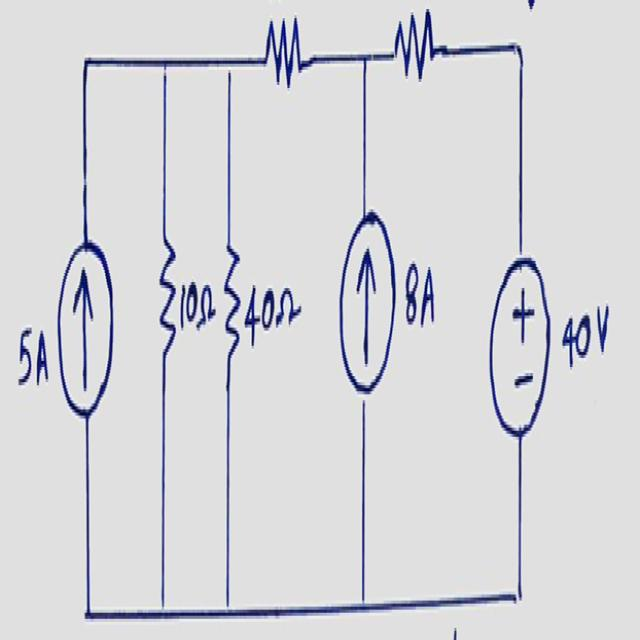current_source: (334, 205, 398, 402), (55, 231, 118, 429)
resistor: (391, 1, 438, 94), (261, 6, 302, 102), (156, 226, 179, 379), (220, 234, 242, 386)
voltage_source: (489, 245, 552, 453)
